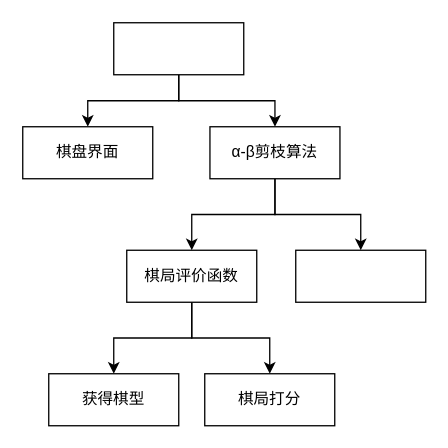
The diagram is 448 pixels wide and 448 high, and some of its shapes have lost their labels. Here are the shapes that lost their labels. From the top down, the box of each, then its label:
(112, 21, 244, 75): 五子棋
(294, 249, 426, 302): 获取可落子位置
